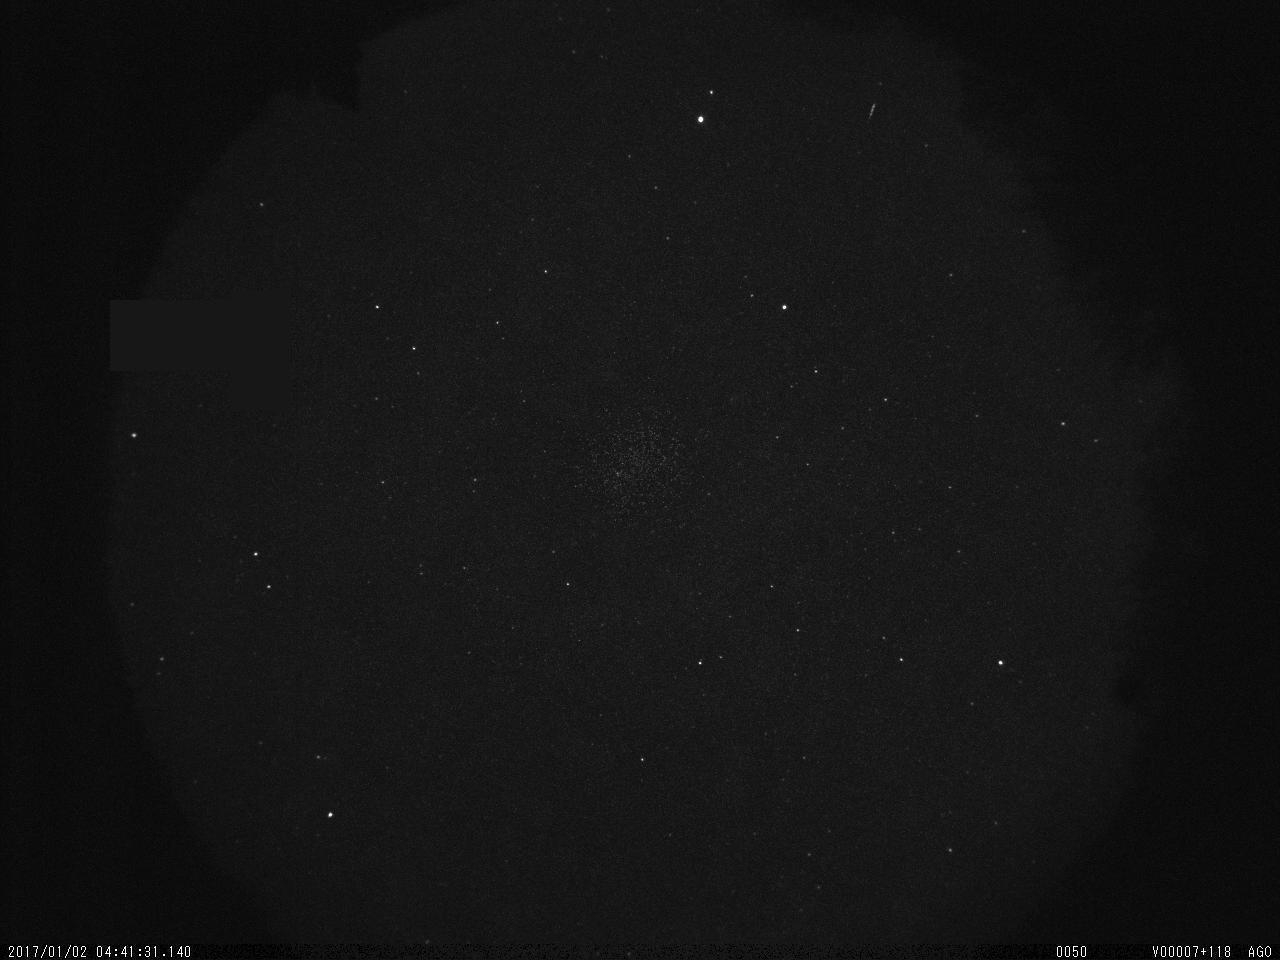Meteor: (862, 96, 887, 135)
